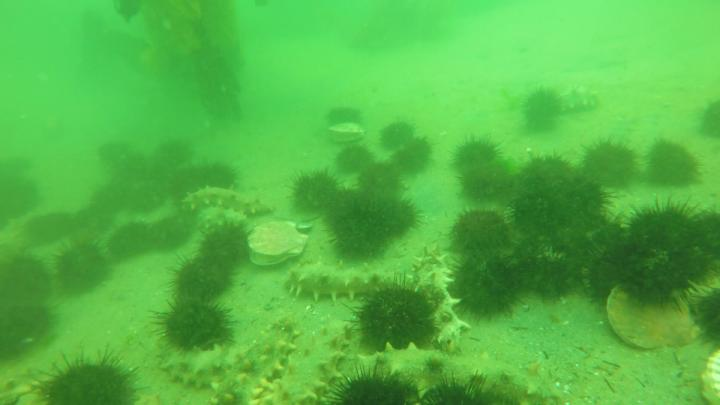echinus: (341, 272, 447, 357), (39, 349, 146, 405), (611, 232, 685, 310), (447, 248, 520, 327), (151, 291, 235, 353), (554, 208, 625, 280), (627, 196, 698, 265), (1, 297, 61, 367), (514, 243, 575, 304), (448, 207, 509, 267), (171, 251, 236, 306), (52, 237, 113, 295), (510, 190, 567, 251), (333, 366, 419, 405), (509, 153, 575, 202), (195, 219, 254, 269), (170, 159, 243, 199), (582, 138, 637, 190), (647, 135, 700, 187), (1, 250, 51, 304), (459, 153, 513, 201), (553, 176, 602, 228), (418, 374, 492, 405), (519, 86, 566, 134), (689, 285, 720, 350), (694, 203, 720, 280), (448, 135, 499, 173), (151, 209, 192, 253), (65, 203, 112, 241), (90, 181, 139, 216), (107, 219, 151, 257), (147, 140, 196, 173), (127, 182, 169, 218), (1, 174, 35, 218), (22, 208, 66, 241), (113, 154, 156, 182), (97, 136, 135, 165), (324, 102, 367, 127), (701, 96, 720, 140)
holothurian: (210, 316, 302, 405), (285, 256, 426, 303), (411, 243, 467, 354), (440, 356, 565, 405), (161, 344, 249, 391), (349, 342, 447, 383), (182, 184, 280, 218), (332, 207, 389, 262), (287, 167, 344, 220), (375, 196, 426, 241), (186, 203, 254, 235), (256, 376, 329, 405), (323, 187, 372, 227), (358, 161, 404, 200), (393, 137, 433, 178), (553, 86, 607, 116), (334, 143, 376, 179), (379, 119, 418, 154)
scallop: (607, 279, 698, 352), (242, 219, 313, 269), (698, 346, 720, 405), (327, 121, 369, 143)
